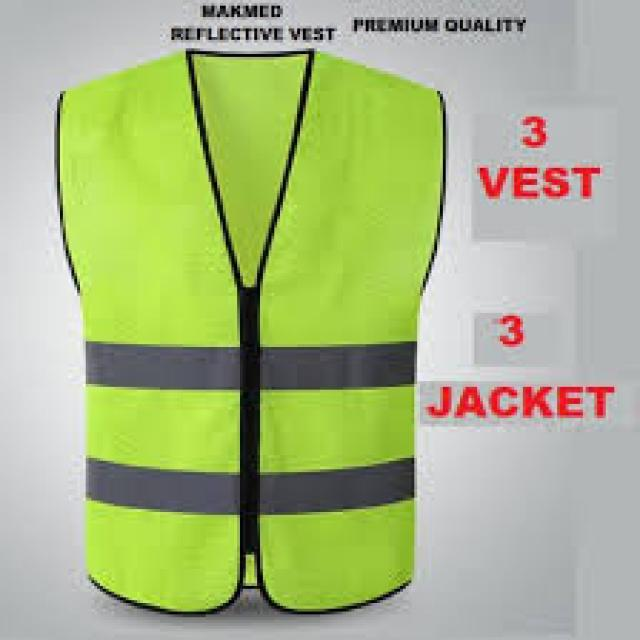Reflective-Jacket: (26, 26, 471, 634)
